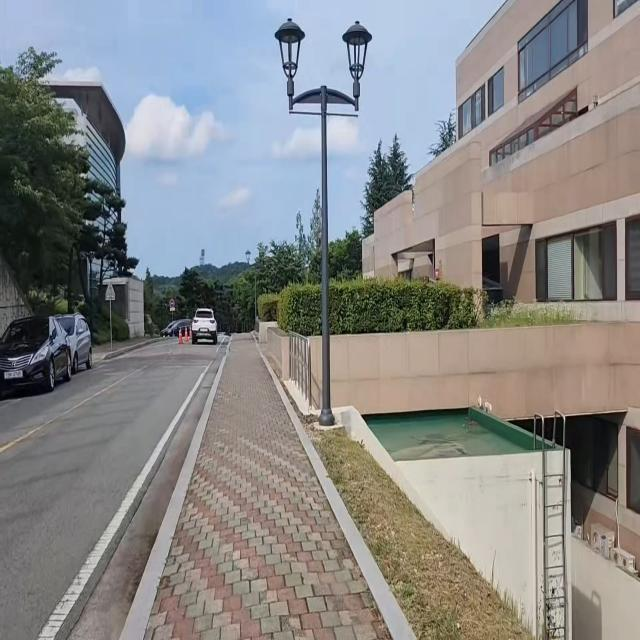obstacle: (270, 13, 372, 433), (0, 310, 100, 406), (183, 298, 225, 347)
road: (0, 339, 221, 640)
sidewalk: (123, 332, 418, 640)
